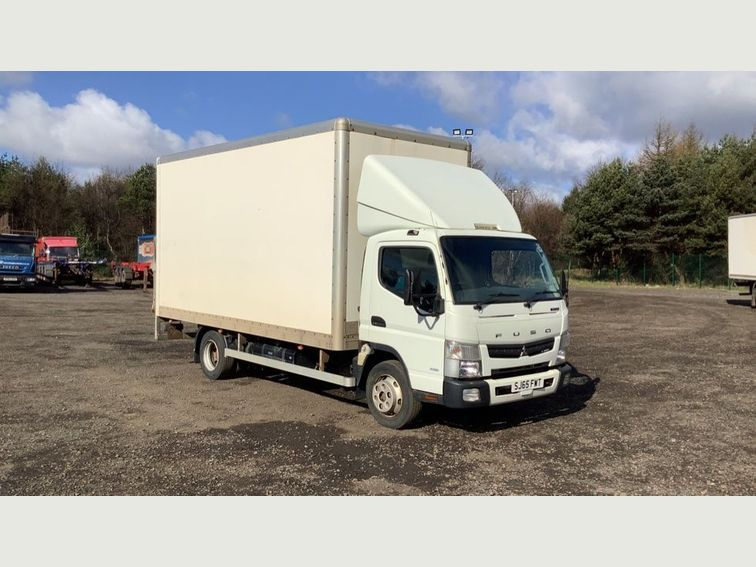Semi: (151, 117, 569, 429)
